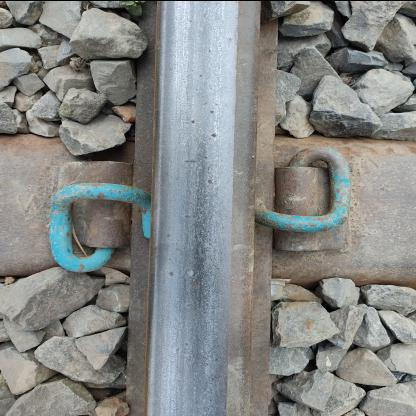Non Defective 1: (286, 96, 415, 227), (77, 126, 214, 238)
